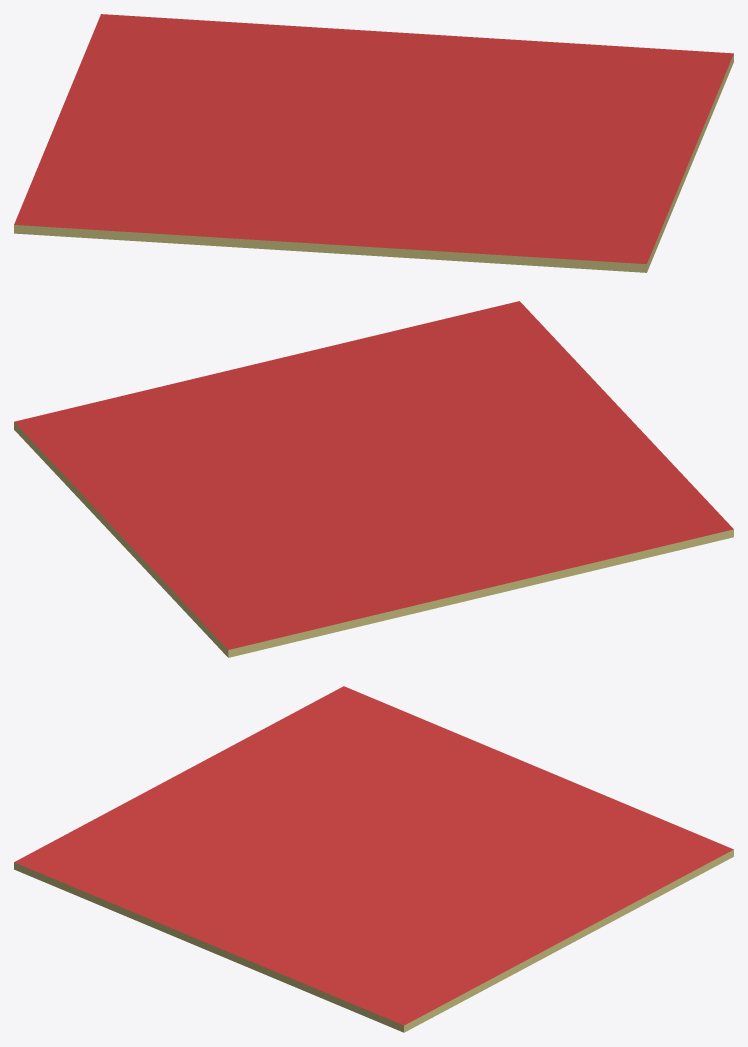
The picture shows the model from 3 angles, top to bottom: view 1: azimuth 30°, elevation 25°; view 2: azimuth 150°, elevation 25°; view 3: azimuth 270°, elevation 25°; orthographic projection. The views are drawn at different scales.
Size of the model in its own units: 9.06 by 9 by 0.553.
